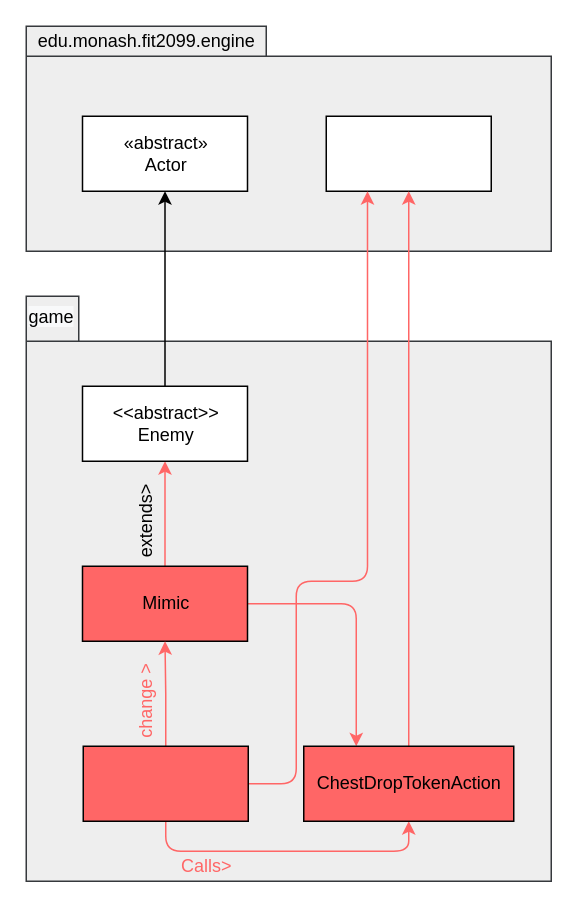
Some shapes in this 578 by 908 pixel diagram are drawn without their labels. The box of each missing label's shape, as (x1, y1, x2, y2) in pixels:
ChestMimicAction: (82, 745, 248, 821)
«abstract» Action: (325, 115, 491, 191)
